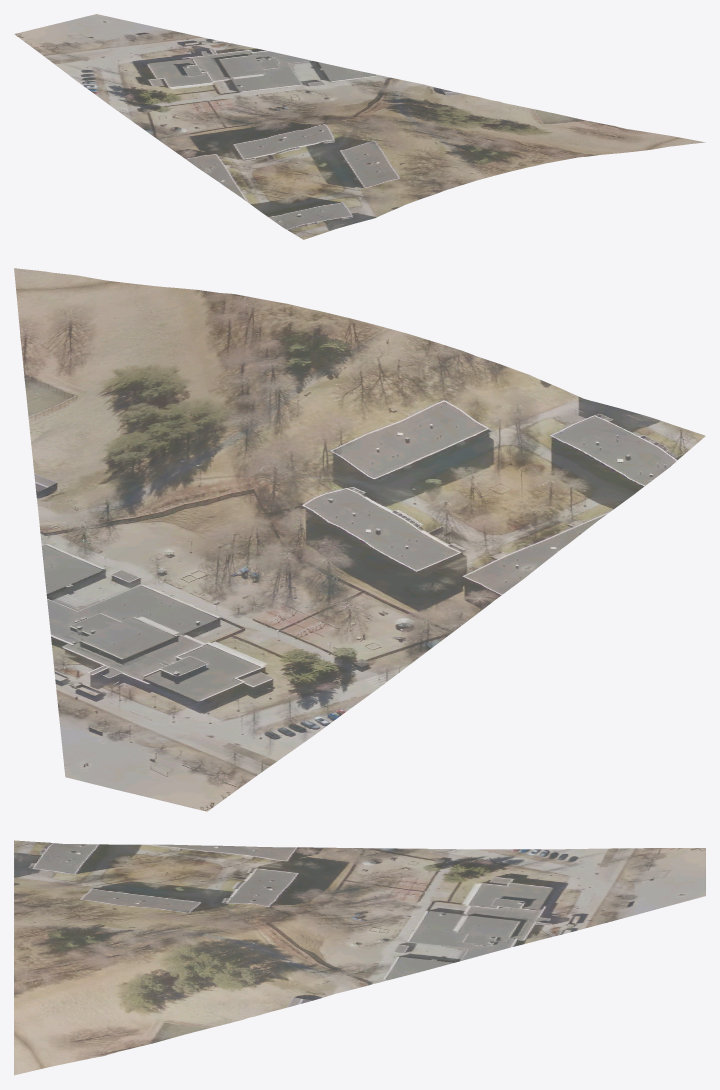
Rendered from CM_Terrain_24493121_6817746.fbx.
3 views of the same model, one above another, from view 1: azimuth 30°, elevation 25°; view 2: azimuth 150°, elevation 25°; view 3: azimuth 270°, elevation 25° (orthographic). The views are drawn at different scales.
Visible parts, largest first — view 1: CM_Terrain_24493121_6817746_LOD0; view 2: CM_Terrain_24493121_6817746_LOD0; view 3: CM_Terrain_24493121_6817746_LOD0.
Boxes of the visible parts, x1,y1,x2,y2 form: CM_Terrain_24493121_6817746_LOD0: (14,14,705,239); CM_Terrain_24493121_6817746_LOD0: (14,268,705,811); CM_Terrain_24493121_6817746_LOD0: (14,840,705,1075).
Size of what is drawn, in the model's own units: 164 by 9.89 by 205.
